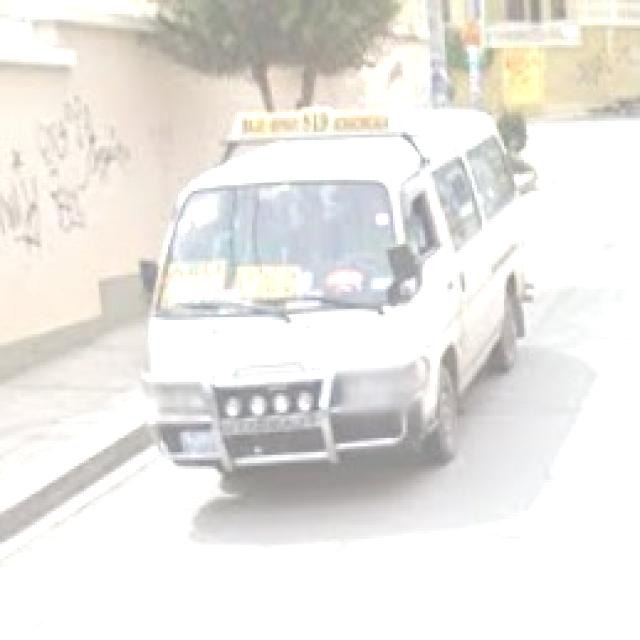car: (146, 118, 525, 477)
